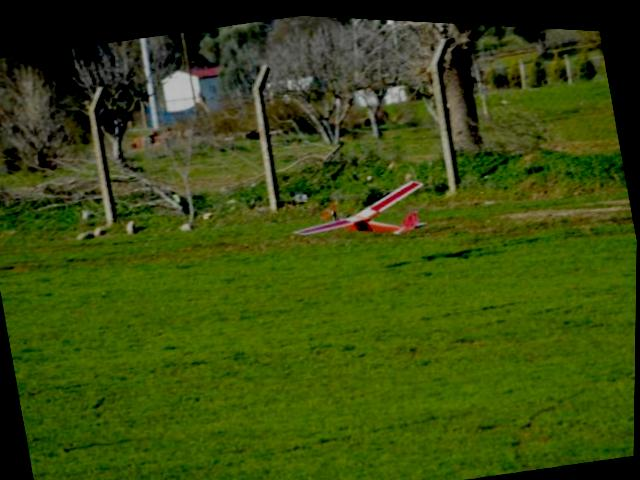iha: (280, 160, 442, 256)
